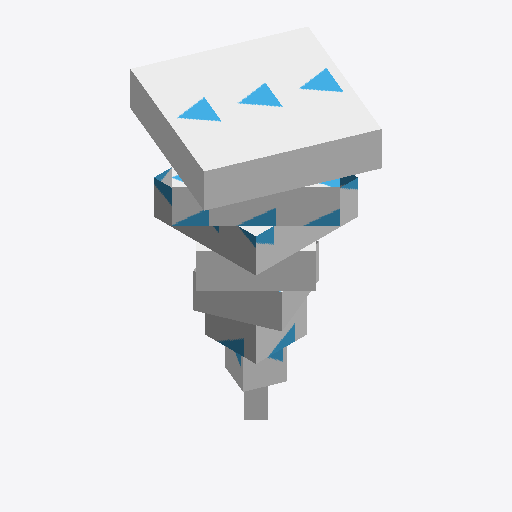
A Minecraft block model of 8 cuboids, rendered isometrically (azimuth 45°, elevation 35.3°) with the resource pack's own textures.
Parts seen in each view (by area): element 8, element 6, element 7, element 5, element 4, element 3, element 2, element 1.
Part boxes in pixels (x1,y1,x2,y2): element 8: (130, 27, 381, 210); element 6: (154, 167, 357, 274); element 7: (172, 167, 339, 225); element 5: (196, 241, 315, 290); element 4: (193, 241, 318, 330); element 3: (205, 297, 306, 363); element 2: (225, 346, 286, 391); element 1: (244, 386, 267, 419).
Size of the model in its own units: 20.91 by 32 by 20.91.